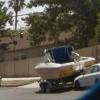Boat: (32, 45, 96, 91)
